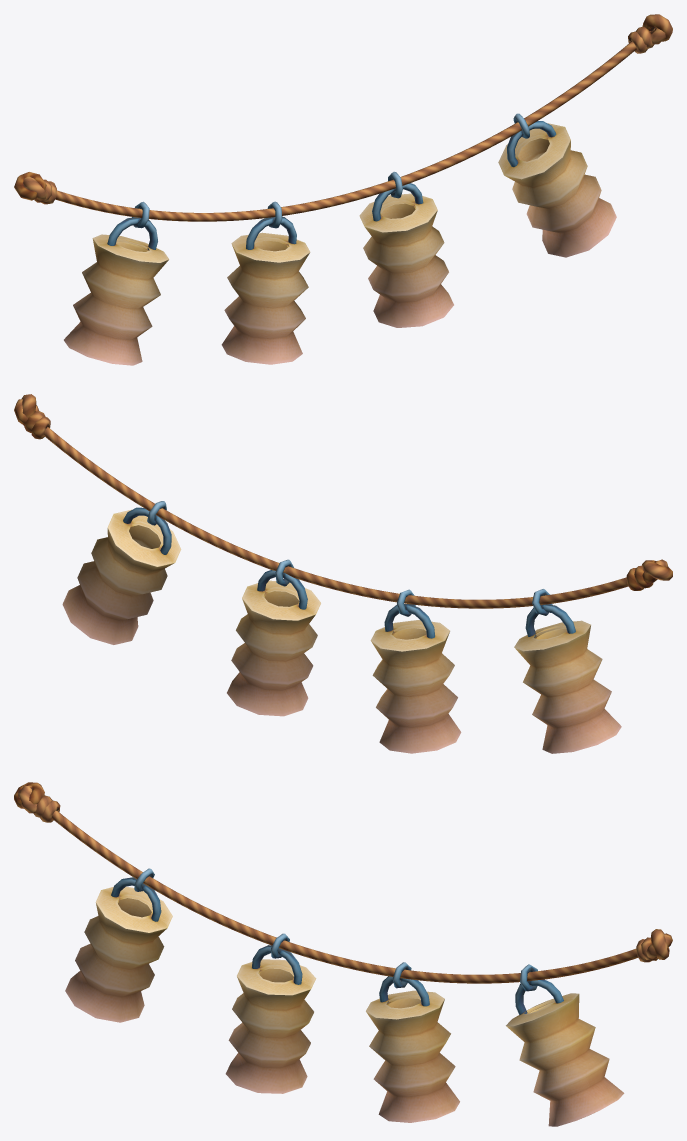
The model's file is SE_Lampions_03b.fbx.
3 views of the same model, one above another, from view 1: azimuth 30°, elevation 25°; view 2: azimuth 150°, elevation 25°; view 3: azimuth 330°, elevation 25° (orthographic).
Parts seen in each view (by area): view 1: SE_Lampions_03b; view 2: SE_Lampions_03b; view 3: SE_Lampions_03b.
Part boxes in pixels (left/top/right/bottom): SE_Lampions_03b: left=14, top=14, right=672, bottom=365; SE_Lampions_03b: left=14, top=394, right=672, bottom=753; SE_Lampions_03b: left=14, top=782, right=672, bottom=1126.
Bounding box in the file's own units: 12.09 × 4.4 × 1.29.
